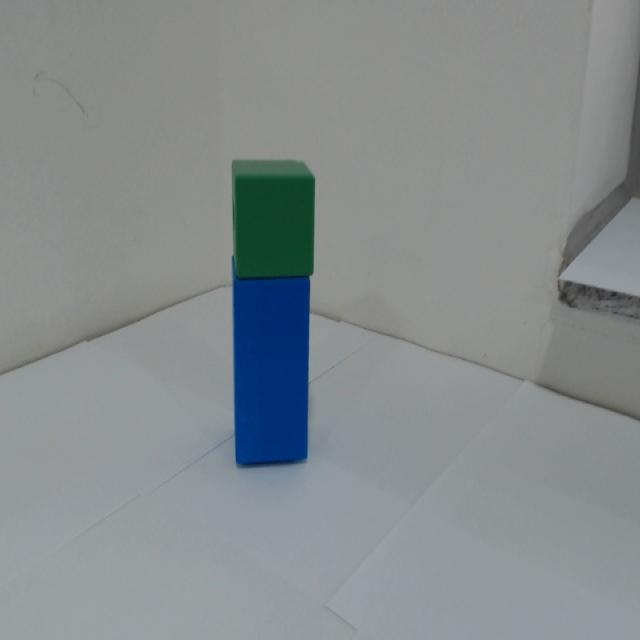cube: (225, 151, 321, 277)
